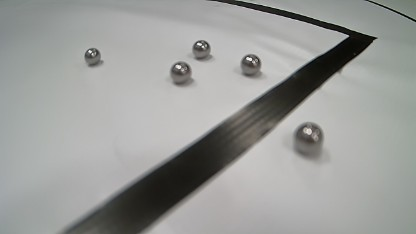ironball: (294, 122, 323, 155), (240, 53, 261, 75), (170, 61, 191, 83), (192, 40, 211, 59), (84, 47, 101, 65)
